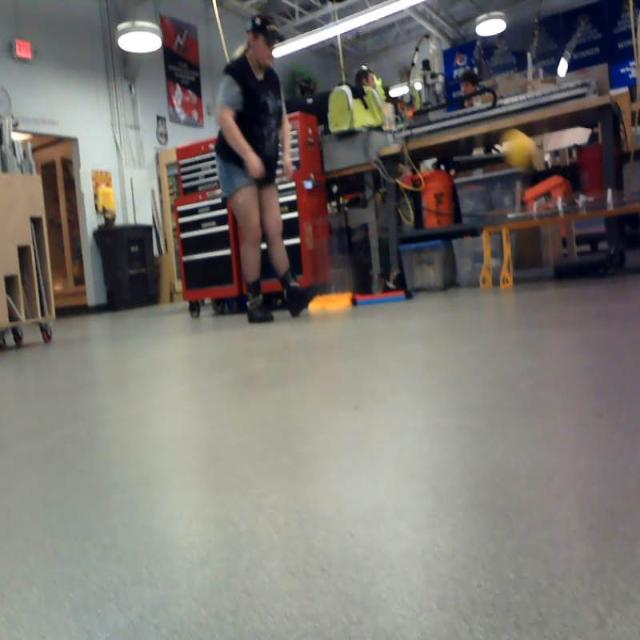Fuel: (508, 134, 536, 171)
